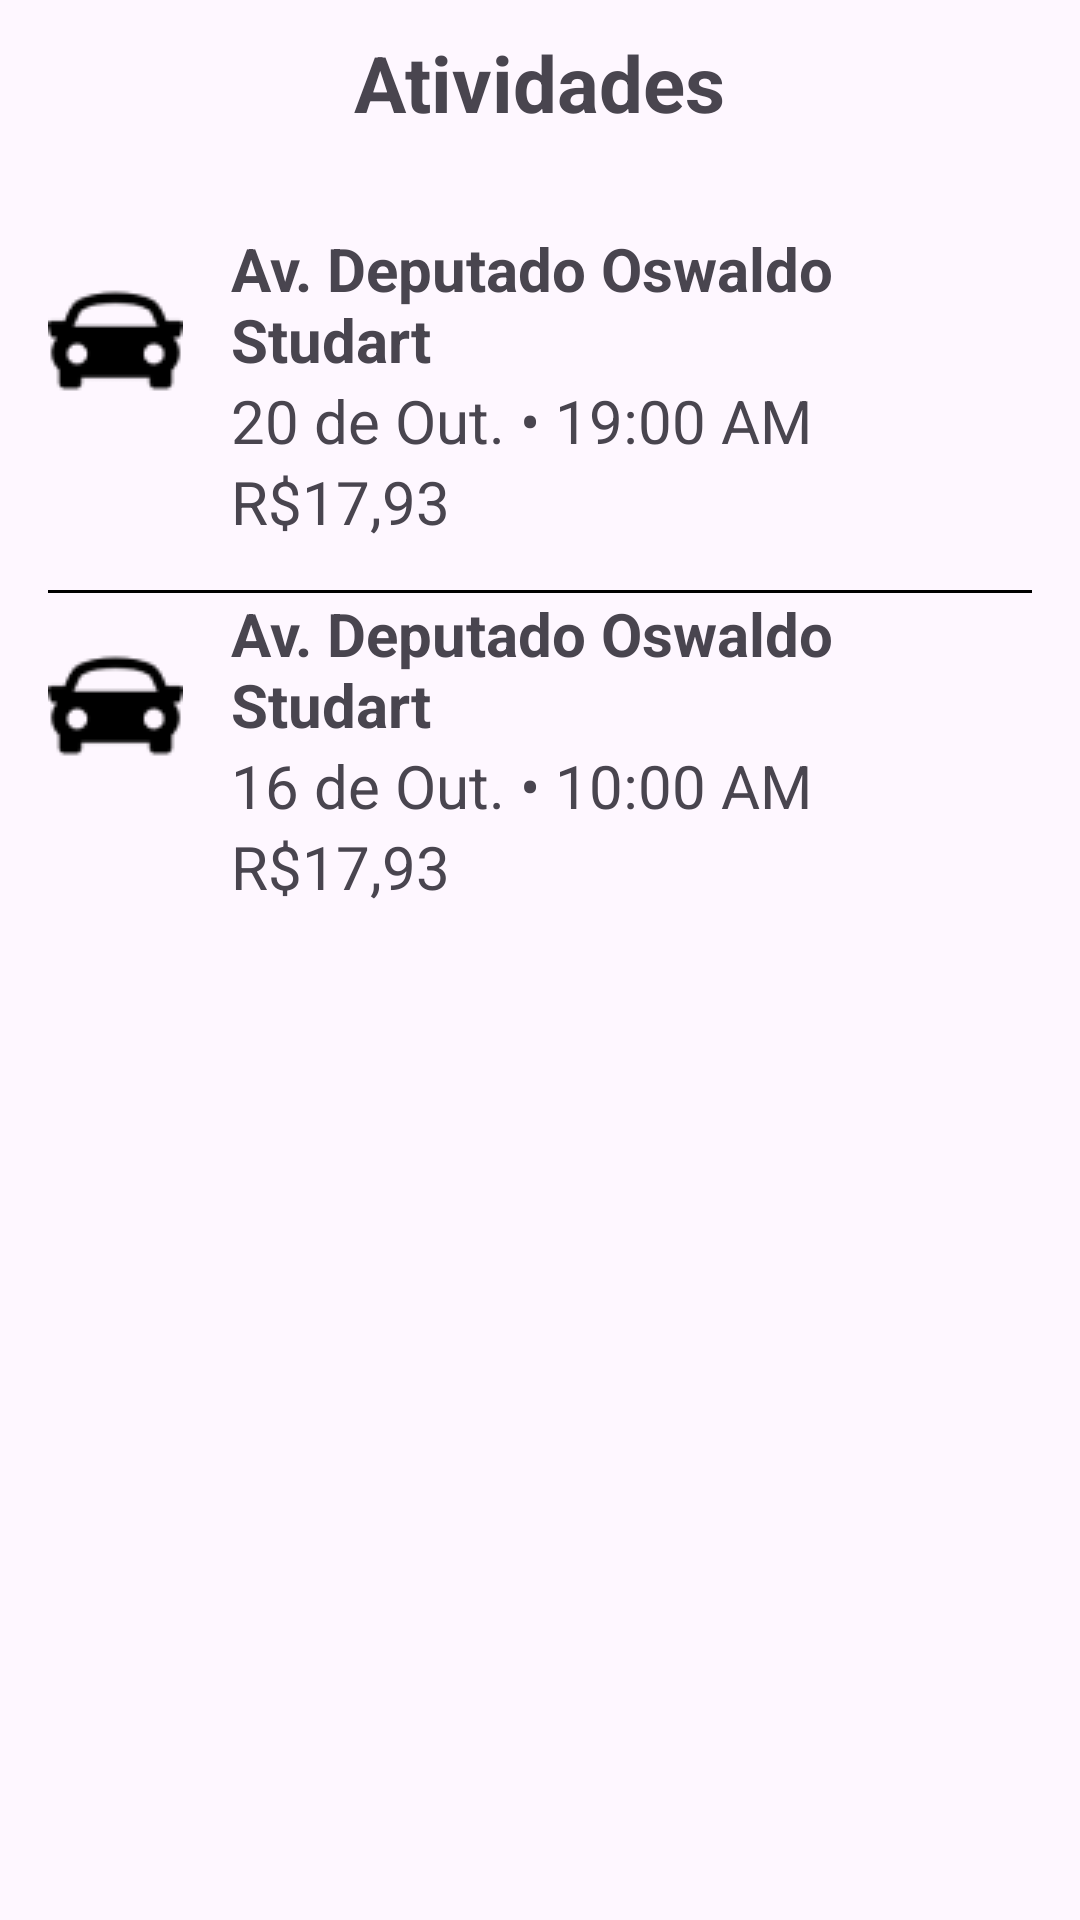

Icon bounding boxes for this 1080w x 1920h phone screenshot, format (x1, y1, x2, y2):
carro: (48, 290, 183, 391), (48, 655, 183, 756)
